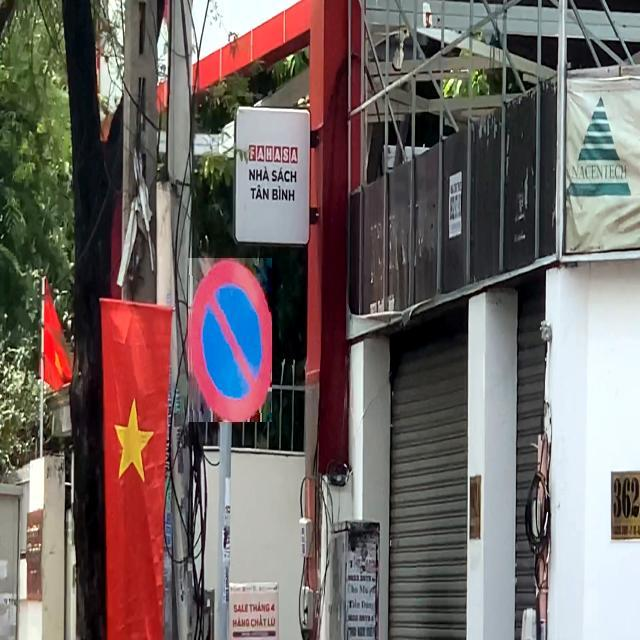P-131a: (188, 258, 272, 422)
